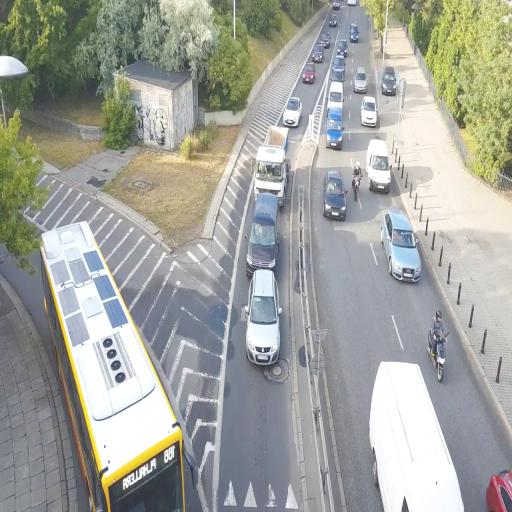vehicle: (368, 359, 465, 511), (368, 360, 464, 510), (246, 144, 282, 275), (245, 269, 281, 367), (381, 209, 421, 284), (246, 188, 280, 274), (254, 127, 287, 201), (366, 139, 392, 193), (323, 170, 347, 220), (485, 467, 512, 511), (429, 332, 447, 384), (326, 108, 343, 148), (282, 95, 302, 127), (360, 96, 378, 127), (381, 67, 398, 95), (353, 69, 367, 93), (302, 65, 315, 86), (349, 22, 359, 42)
